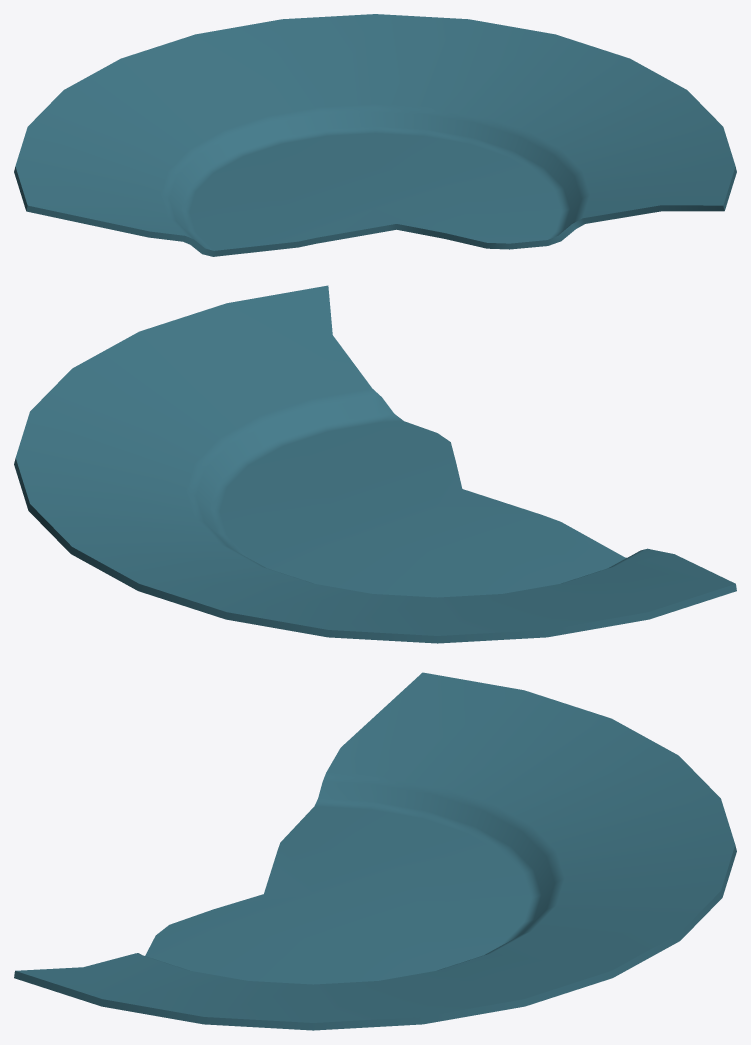
The model's file is SM_SmallTrashkit_Plat2_001.fbx.
The picture shows the model from 3 angles, top to bottom: view 1: azimuth 30°, elevation 25°; view 2: azimuth 150°, elevation 25°; view 3: azimuth 270°, elevation 25°; orthographic projection. The views are drawn at different scales.
Visible parts, largest first — view 1: SM_SmallTrashkit_Plat2_001; view 2: SM_SmallTrashkit_Plat2_001; view 3: SM_SmallTrashkit_Plat2_001.
Part boxes in pixels (x1,y1,x2,y2): SM_SmallTrashkit_Plat2_001: (14, 14, 736, 256); SM_SmallTrashkit_Plat2_001: (14, 285, 736, 643); SM_SmallTrashkit_Plat2_001: (14, 672, 736, 1030).
Bounding box in the file's own units: 42.47 × 3.41 × 36.87.
